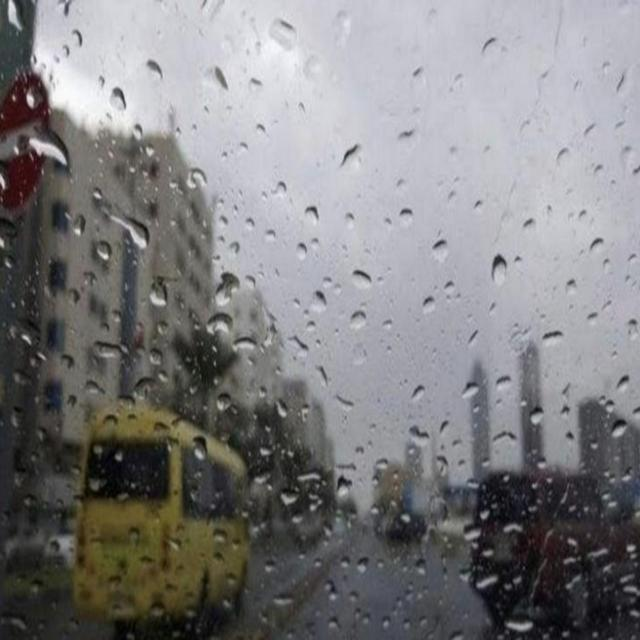Bus: (70, 396, 254, 630)
Car: (473, 463, 640, 628)
